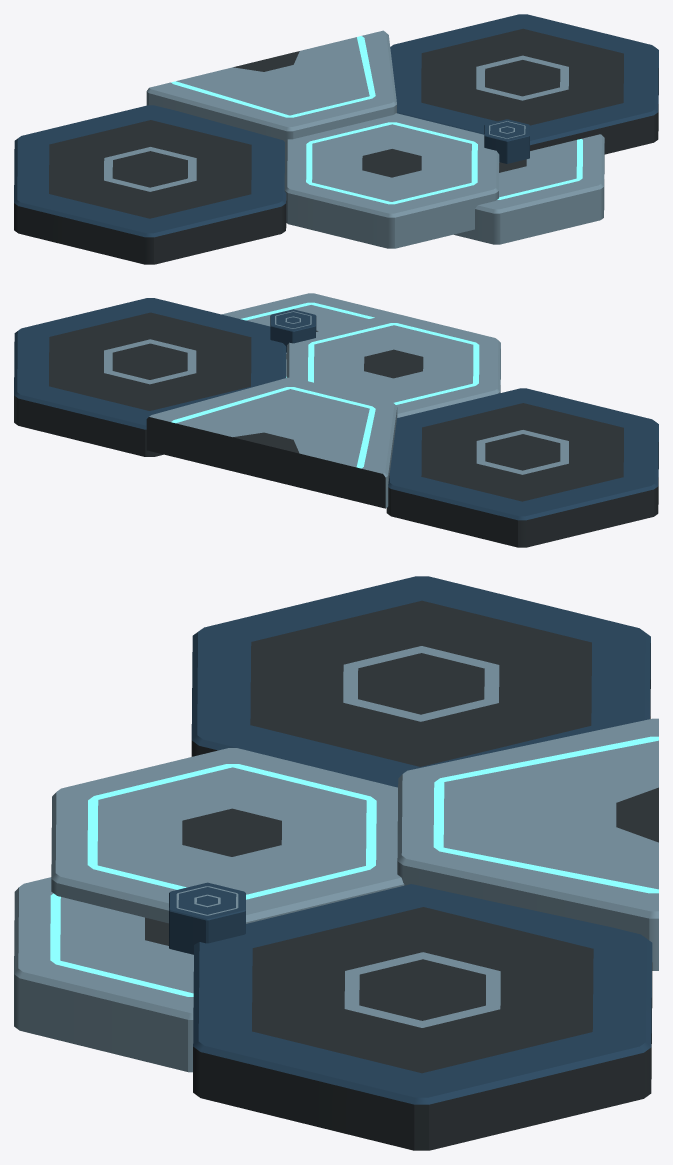
File: Aero_Ground_Hexagons_01_Art.fbx
The picture shows the model from 3 angles, top to bottom: view 1: azimuth 30°, elevation 25°; view 2: azimuth 150°, elevation 25°; view 3: azimuth 270°, elevation 25°; orthographic projection. The views are drawn at different scales.
Parts seen in each view (by area): view 1: Aero_Ground_Hexagons_01_Art; view 2: Aero_Ground_Hexagons_01_Art; view 3: Aero_Ground_Hexagons_01_Art.
Part boxes in pixels (x1,y1,x2,y2): Aero_Ground_Hexagons_01_Art: [14, 14, 658, 264]; Aero_Ground_Hexagons_01_Art: [14, 293, 658, 547]; Aero_Ground_Hexagons_01_Art: [14, 576, 658, 1150].
Size of the model in its own units: 1948 by 200 by 1009.
